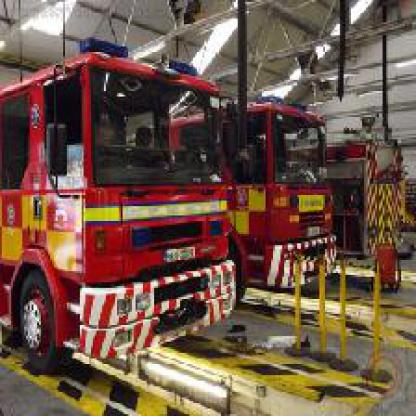emergency: (2, 39, 408, 396)
